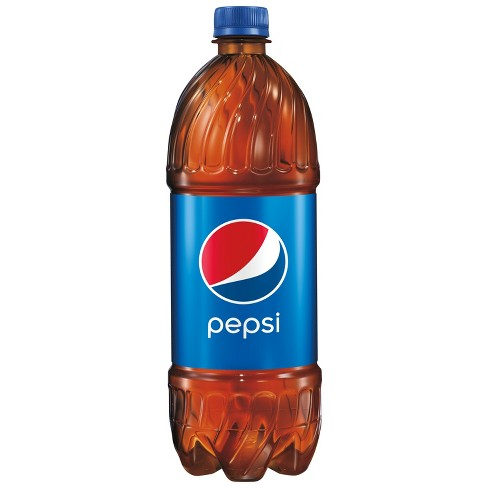pepsi: (198, 214, 288, 303), (198, 217, 288, 303)
